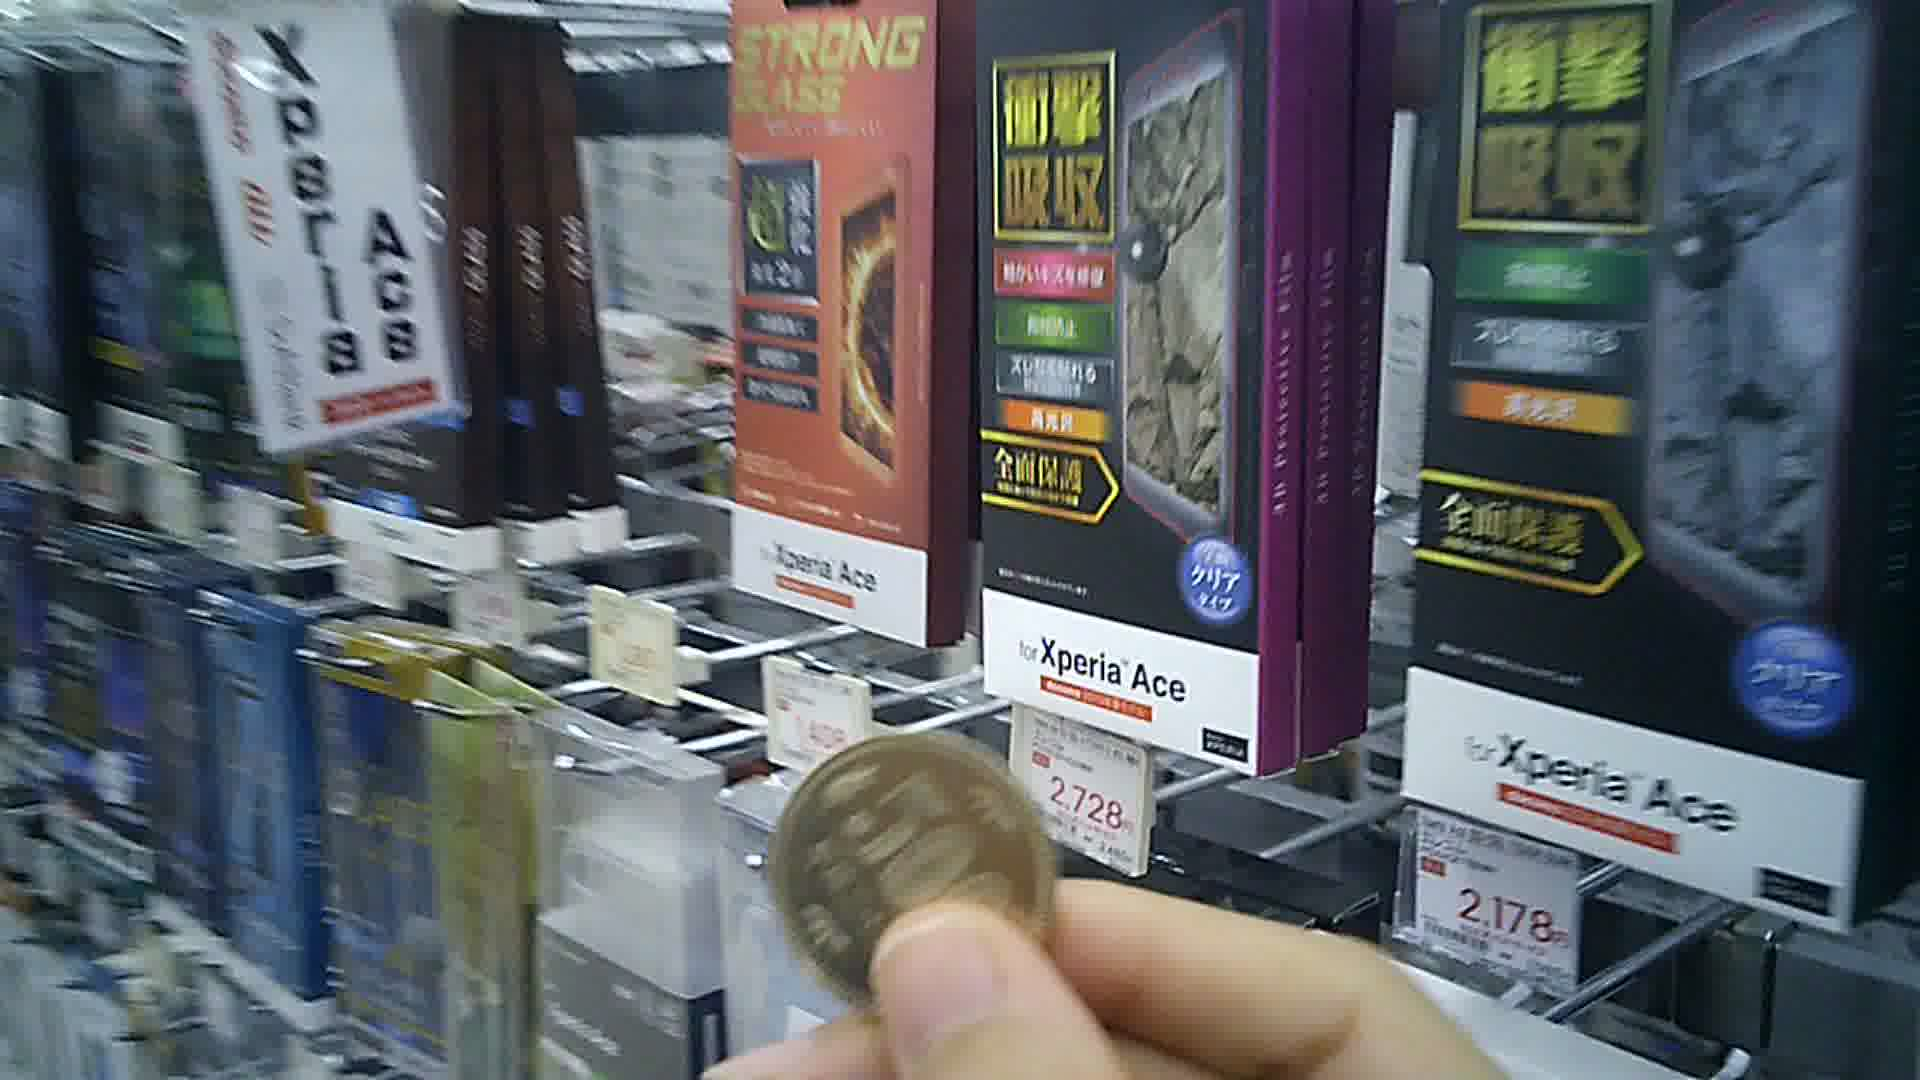500 Yen: (766, 724, 1062, 1001)
